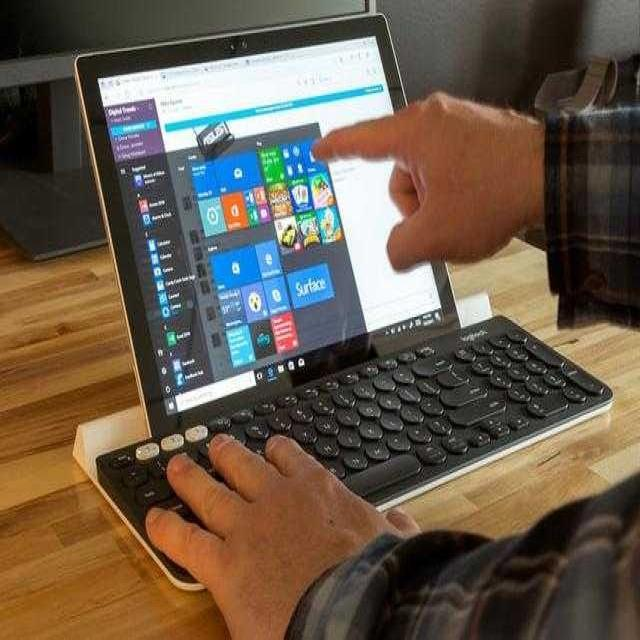keyboard-with-hands: (97, 309, 618, 593)
